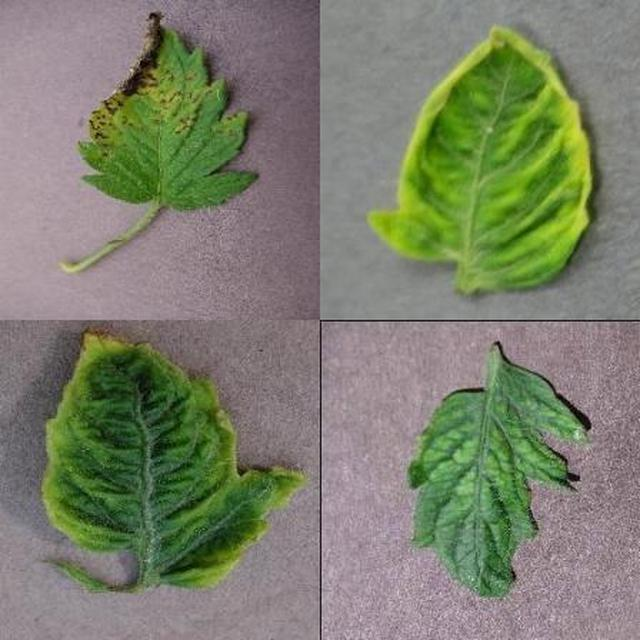Septoria Leaf: (242, 157, 640, 640)
